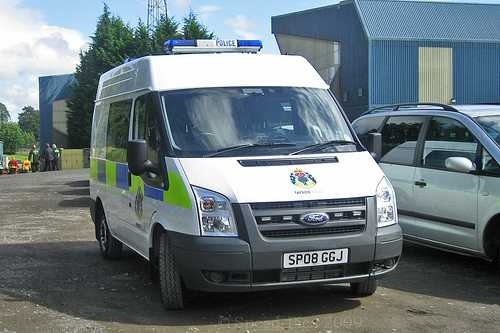Ambulance: (72, 19, 414, 312)
